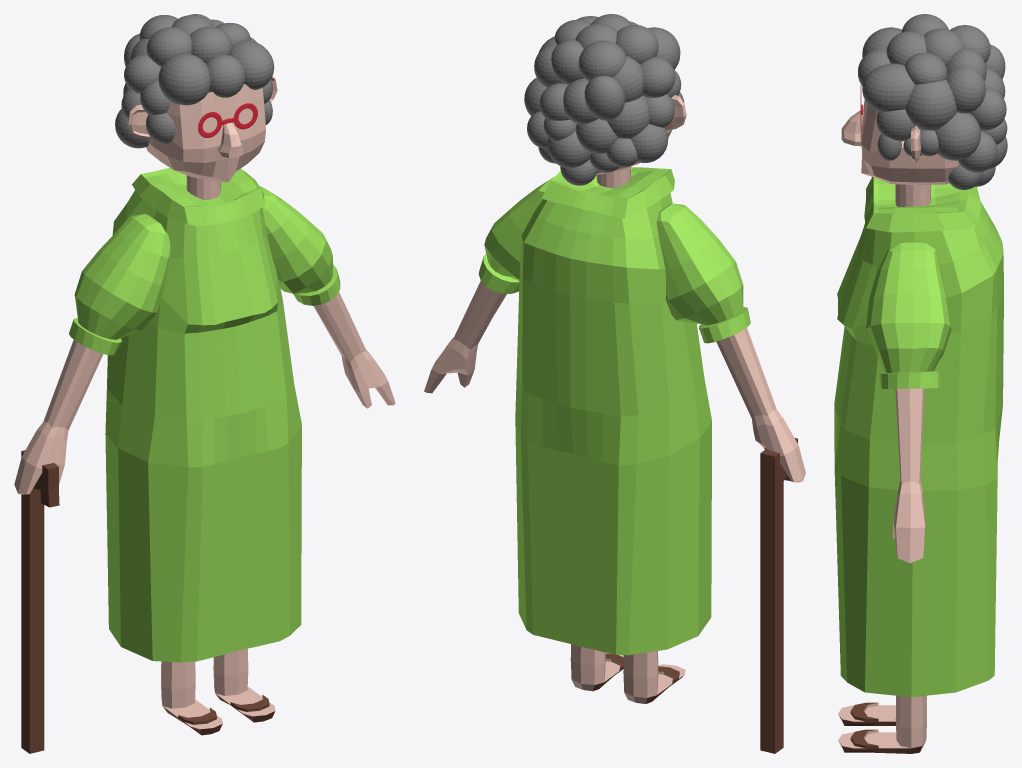
The model's file is Vieja.fbx.
3 views of the same model, side by side, from view 1: azimuth 30°, elevation 25°; view 2: azimuth 150°, elevation 25°; view 3: azimuth 270°, elevation 25° (orthographic). The views are drawn at different scales.
Parts seen in each view (by area): view 1: Vieja; view 2: Vieja; view 3: Vieja.
Part boxes in pixels (box(x1,y1,x2,y2)): Vieja: box(14, 14, 395, 753); Vieja: box(424, 14, 805, 753); Vieja: box(834, 14, 1007, 753).
Bounding box in the file's own units: 230 × 402 × 88.35.
